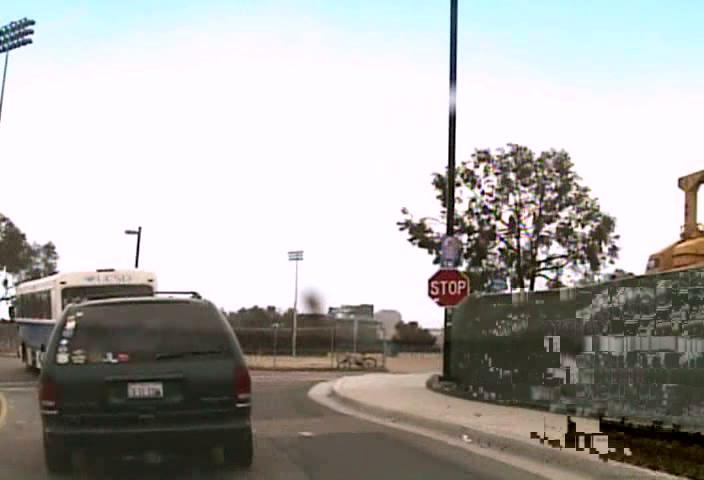stop: (426, 267, 469, 307)
